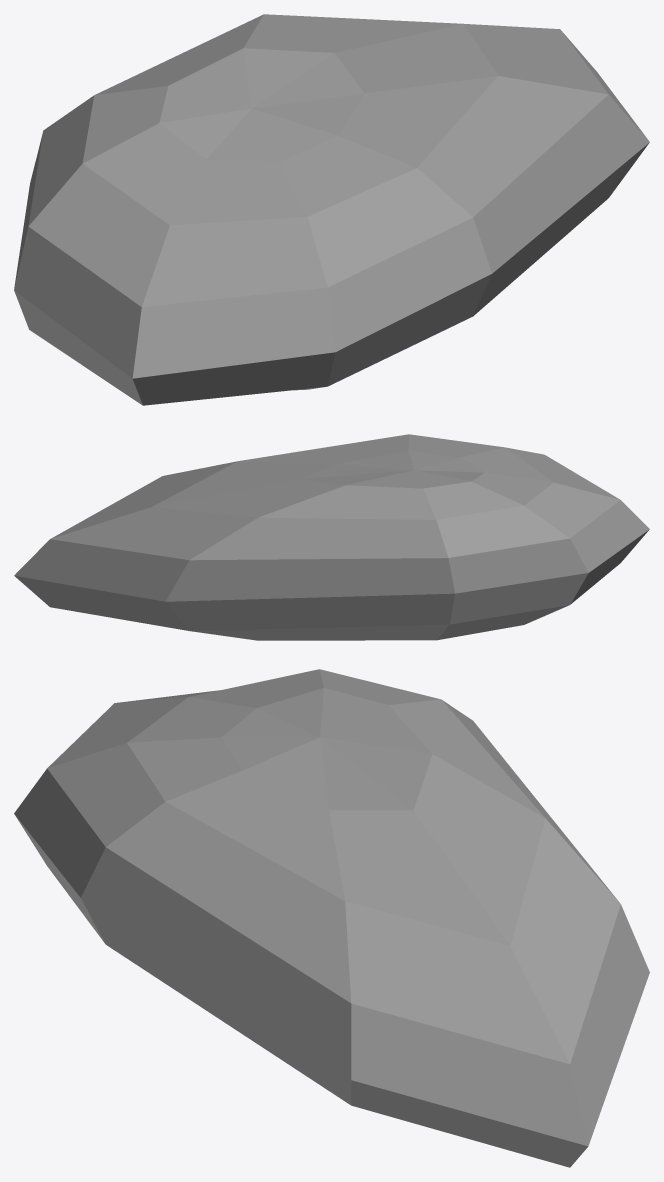
File: Stone1.fbx
3 renders of one model, top to bottom at view 1: azimuth 30°, elevation 25°; view 2: azimuth 150°, elevation 25°; view 3: azimuth 270°, elevation 25°, orthographic. The views are drawn at different scales.
Parts seen in each view (by area): view 1: Stone1; view 2: Stone1; view 3: Stone1.
Boxes of the visible parts, box(x1,y1,x2,y2) form: Stone1: box(14, 14, 649, 405); Stone1: box(14, 434, 649, 640); Stone1: box(14, 669, 649, 1167).
Bounding box in the file's own units: 45.48 × 14.62 × 34.61.
